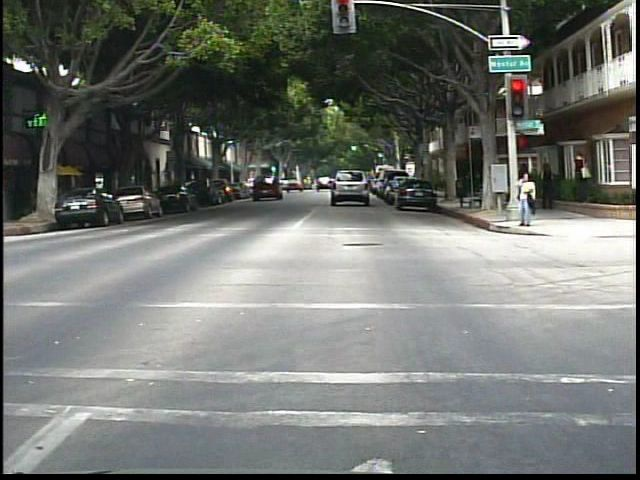person: (513, 169, 540, 229), (569, 148, 594, 204), (539, 159, 562, 216), (516, 159, 535, 212)
